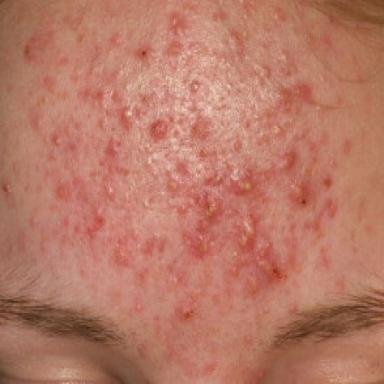acne: (257, 241, 286, 283), (277, 83, 311, 112), (199, 194, 222, 231), (226, 165, 252, 195), (183, 233, 209, 258), (290, 181, 312, 206), (231, 251, 251, 276), (230, 29, 246, 59), (169, 12, 188, 36), (239, 216, 254, 246), (191, 118, 211, 140), (115, 237, 129, 266), (134, 44, 155, 63), (150, 120, 168, 141), (179, 302, 196, 322), (55, 181, 71, 202), (94, 202, 106, 229), (244, 275, 260, 295), (282, 150, 297, 171), (122, 106, 135, 128), (167, 41, 183, 58), (167, 174, 179, 195), (325, 198, 337, 219), (105, 138, 117, 156), (104, 182, 115, 201), (24, 43, 34, 62), (177, 202, 189, 216), (205, 176, 223, 185), (131, 224, 141, 240), (323, 175, 332, 191), (1, 180, 11, 194), (190, 79, 200, 93), (169, 273, 181, 284), (91, 91, 103, 101), (135, 300, 144, 313), (111, 35, 121, 46), (234, 139, 242, 152), (53, 134, 61, 146), (261, 132, 269, 142)
